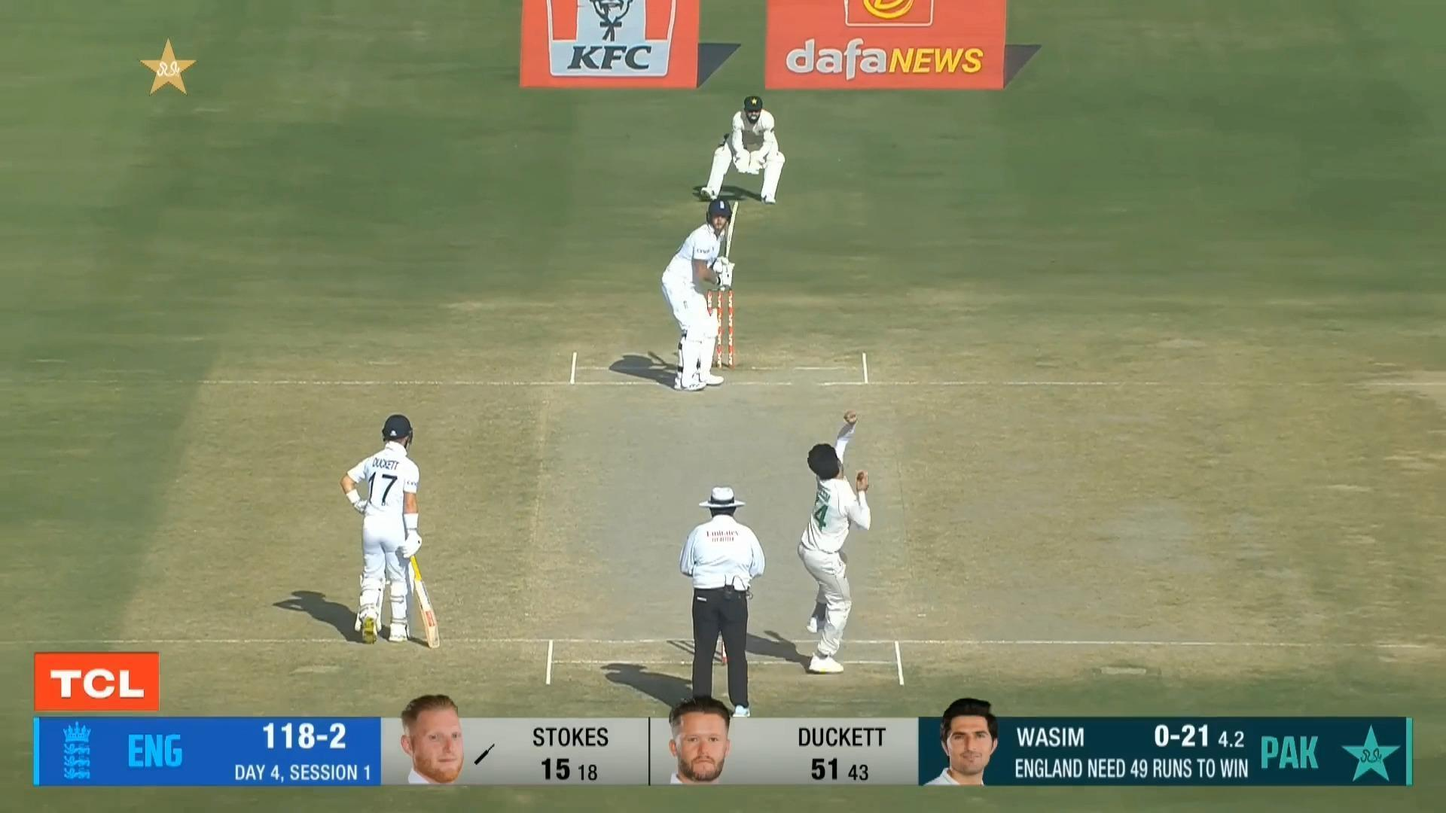BM 1: (660, 198, 740, 392)
BO: (798, 410, 872, 675)
